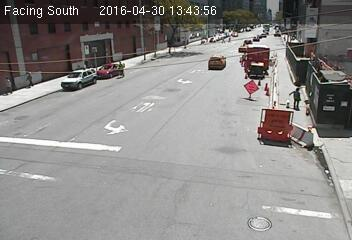neg: (282, 17, 311, 55), (216, 154, 241, 187), (166, 46, 189, 77), (29, 39, 52, 68), (317, 151, 339, 181), (92, 20, 114, 50), (146, 49, 168, 78), (62, 73, 82, 101), (176, 156, 196, 183), (102, 169, 120, 193), (58, 156, 74, 178), (258, 142, 274, 164), (171, 105, 187, 126), (125, 119, 139, 138), (252, 176, 266, 195), (46, 97, 60, 116), (201, 93, 215, 111), (65, 22, 78, 40), (88, 129, 100, 145), (207, 59, 218, 75), (133, 81, 144, 97), (238, 114, 249, 128), (97, 75, 106, 88), (229, 63, 238, 75), (261, 53, 270, 64), (20, 171, 28, 182)
pos: (287, 85, 306, 110), (20, 69, 36, 90), (220, 35, 227, 44)
